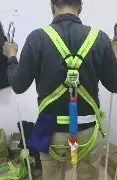safety belt: (22, 27, 109, 162)
